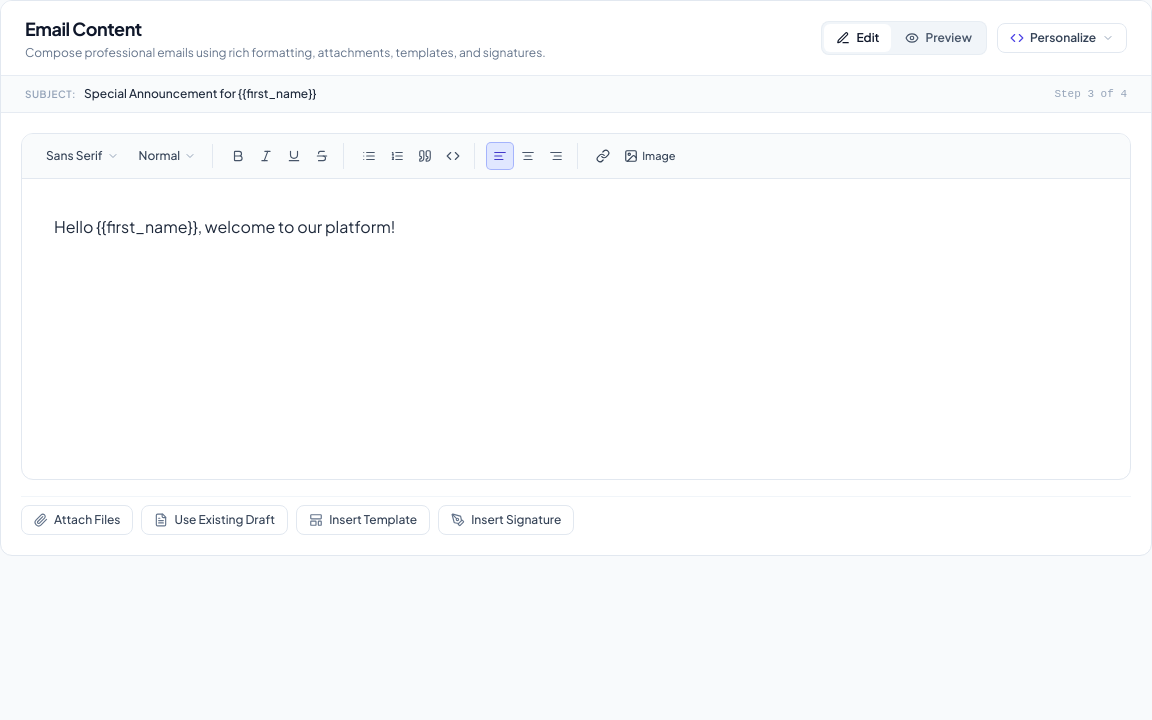
C12.2 Create Campaign Wizard Components › 6. CampaignContentStep › toggles between edit and preview tabs
expect the element showing "Sans Serif Normal Image" is shown: met, box [22,134,1130,179]
expect the text "Special Announcement for {{first_name}}" is shown: met, box [84,86,316,102]
Note: Switch to preview tab
Step 1. Click the button "Preview" → [939, 38], box [893,24,984,52]
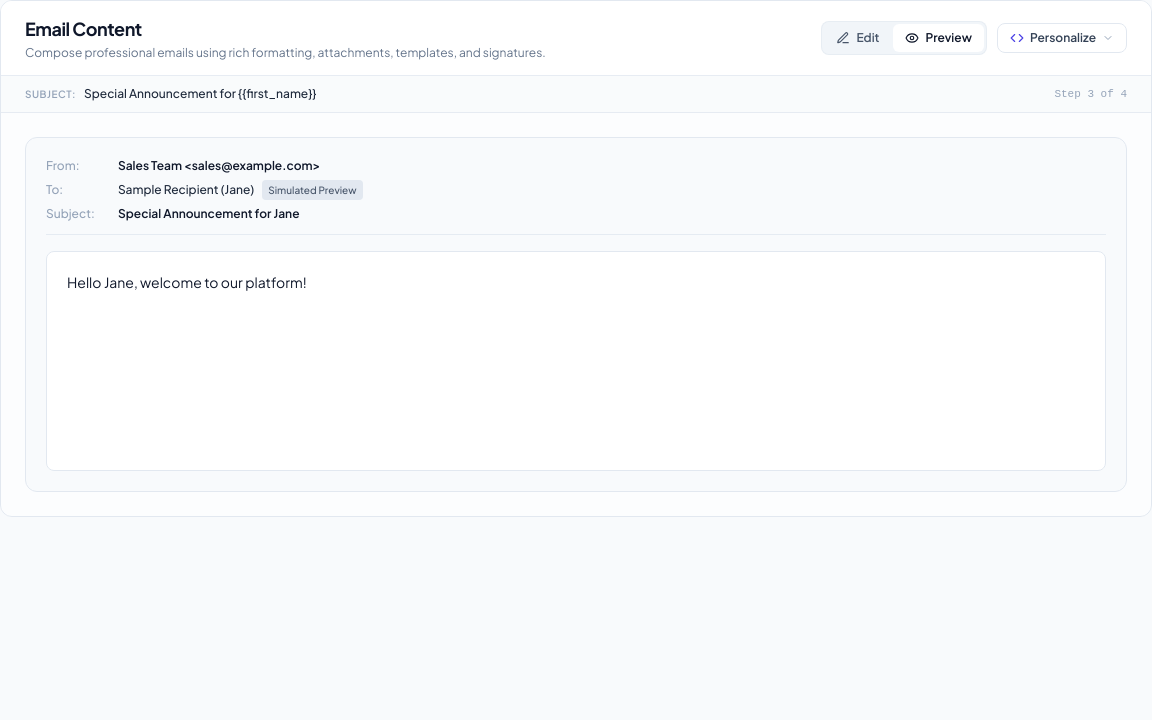
expect the text "Special Announcement for Jane" is shown: met, box [118,206,300,222]
expect the text "Sales Team <sales@example.com>" is shown: met, box [118,158,320,174]
expect the text "Simulated Preview" is shown: met, box [262,180,363,200]
